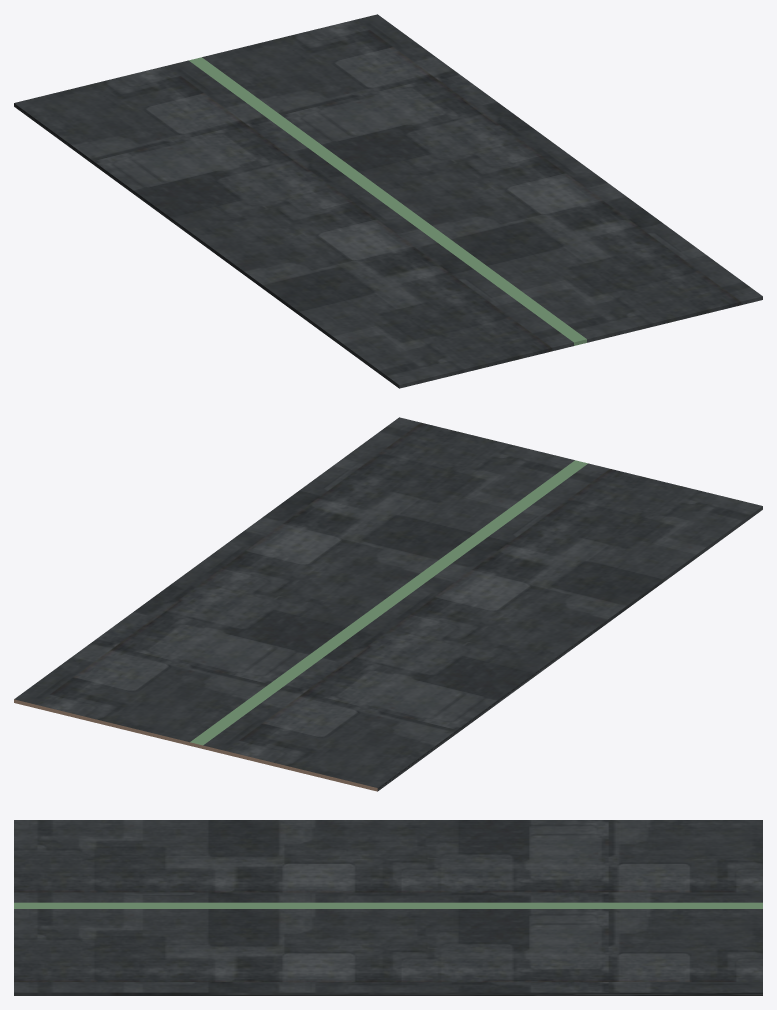
3 renders of one model, top to bottom at view 1: azimuth 30°, elevation 25°; view 2: azimuth 150°, elevation 25°; view 3: azimuth 270°, elevation 25°, orthographic. The views are drawn at different scales.
Parts seen in each view (by area): view 1: Box015; view 2: Box015; view 3: Box015.
Part boxes in pixels (box(x1,y1,x2,y2)): Box015: box(14, 14, 762, 388); Box015: box(14, 417, 762, 791); Box015: box(14, 820, 762, 995).
Bounding box in the file's own units: 0.0556 × 0.000523 × 0.1019.
3 materials, 1 textured.
